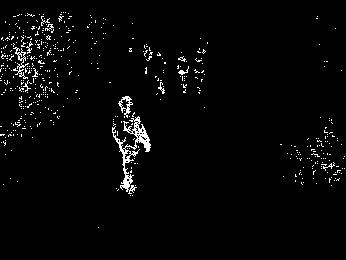person: (110, 92, 152, 197)
